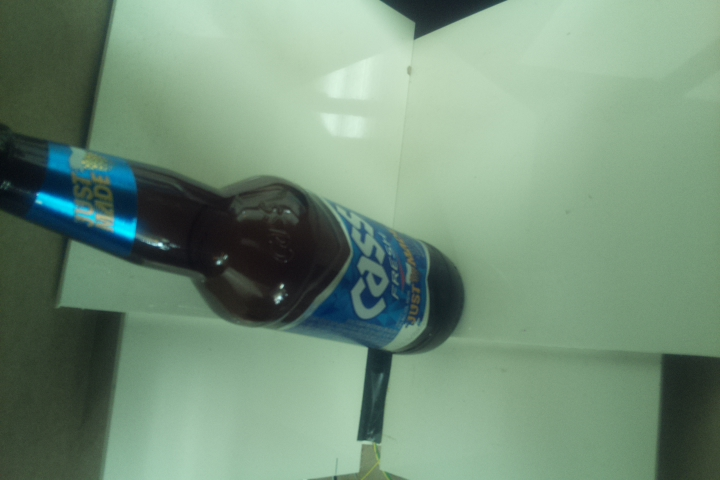makju: (1, 116, 465, 355)
